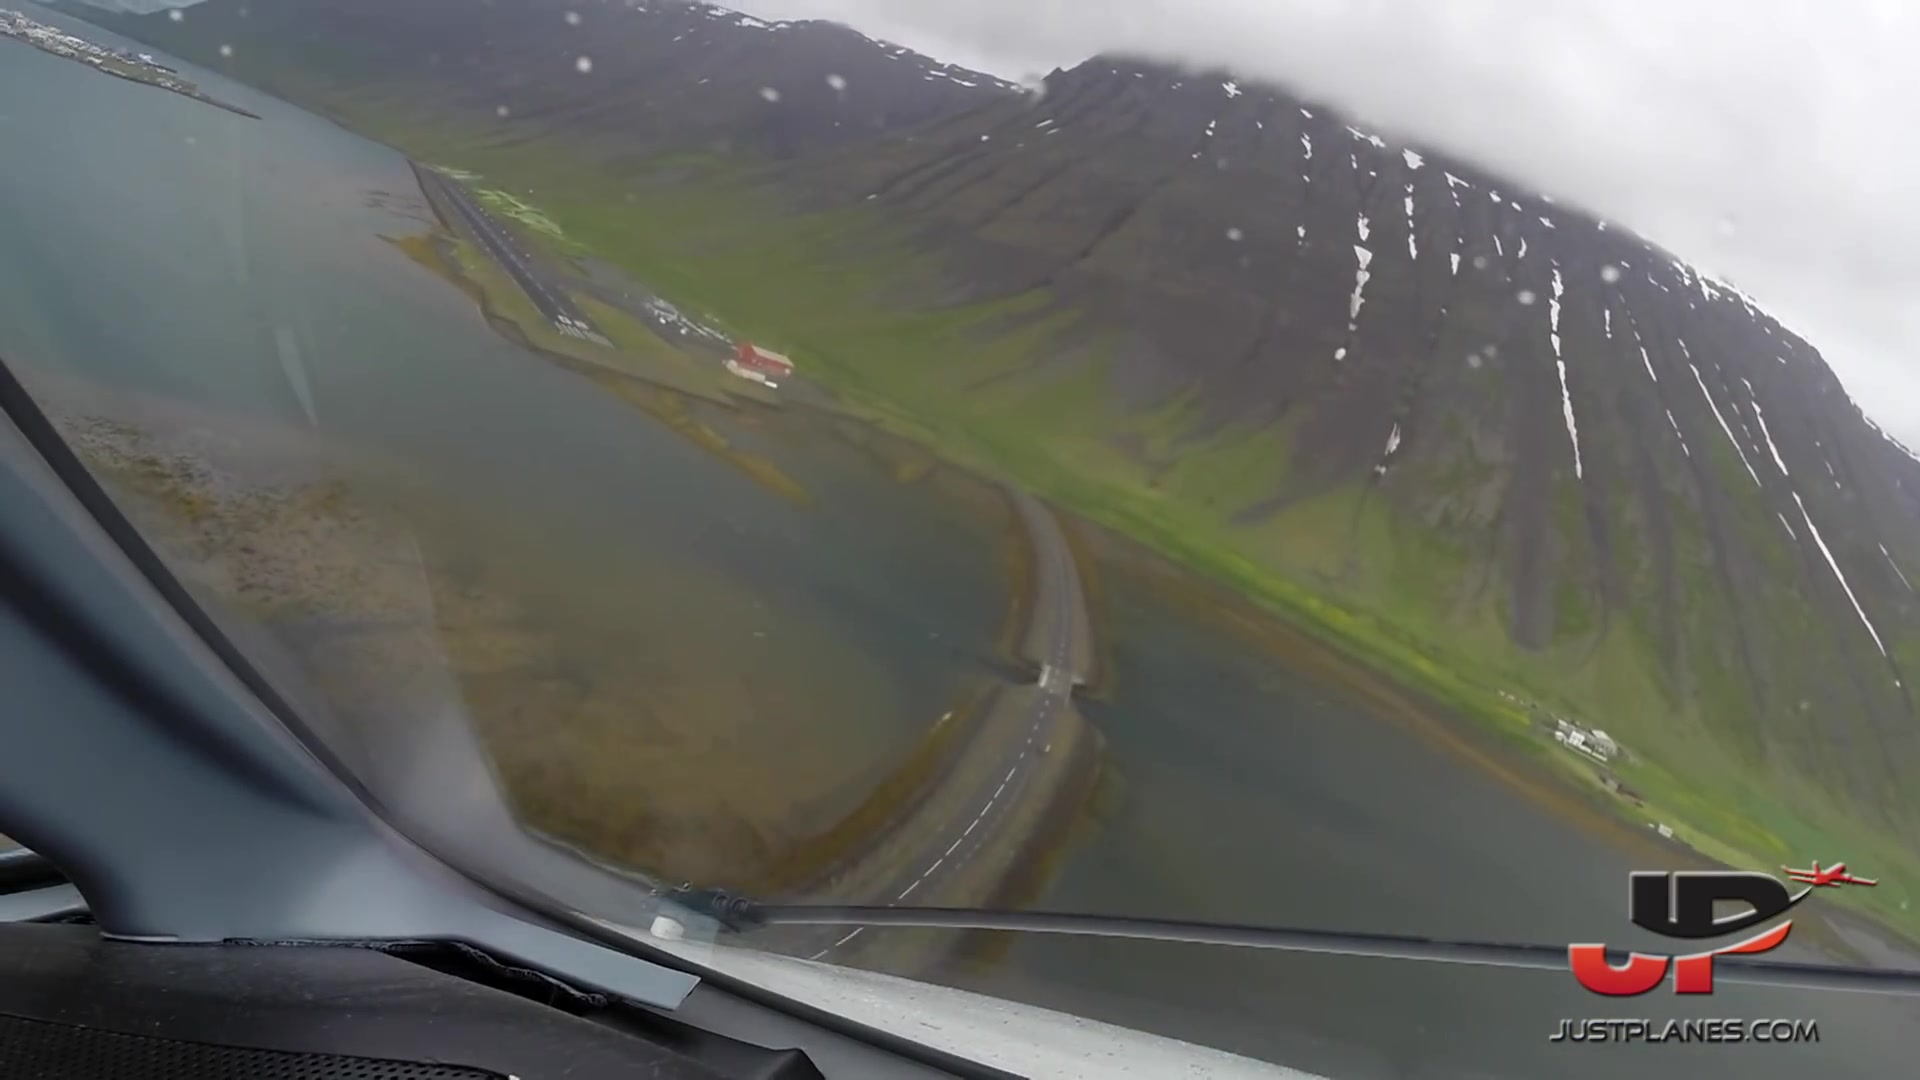runway: (436, 174, 621, 349)
